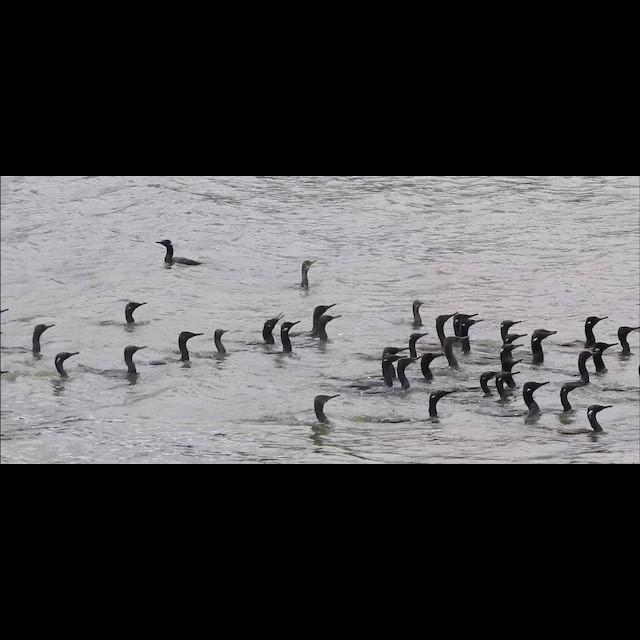cormorant: (153, 237, 205, 267), (309, 392, 341, 428), (122, 341, 148, 381), (52, 350, 82, 380), (176, 330, 204, 362), (298, 258, 318, 288)
